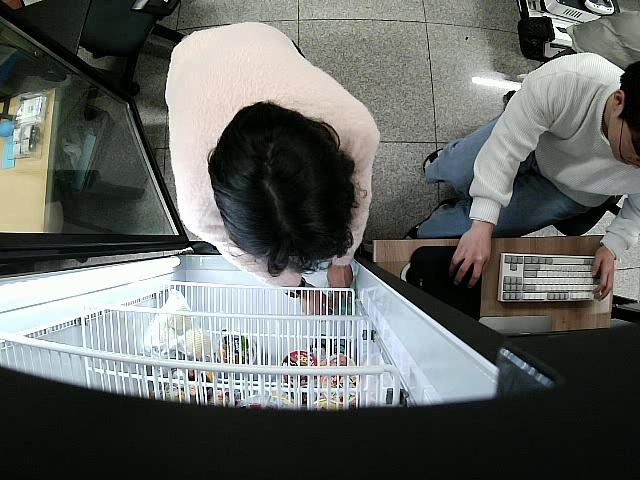00_hand: (451, 233, 491, 288), (325, 264, 355, 303), (297, 287, 327, 317)
